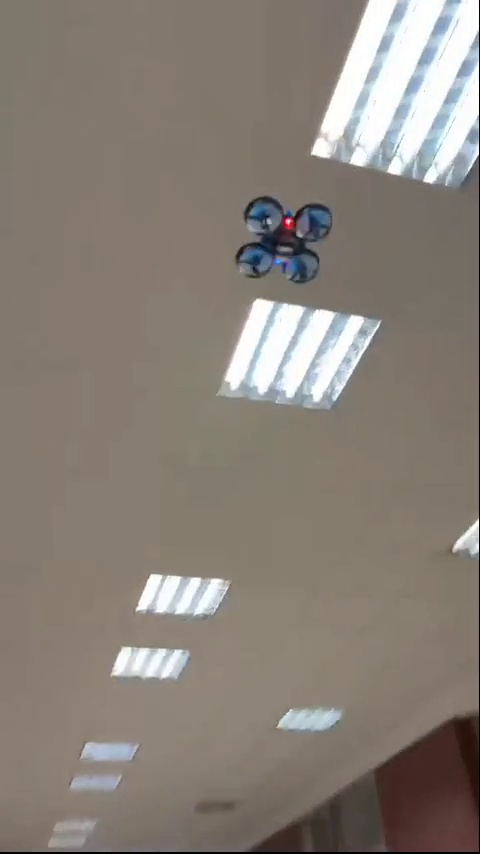drone: (233, 200, 334, 283)
